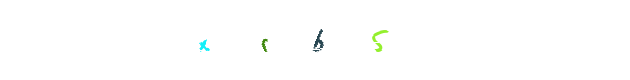5: (325, 0, 405, 80)
B: (275, 0, 355, 80)
R: (264, 0, 344, 80)
X: (163, 0, 243, 80)
